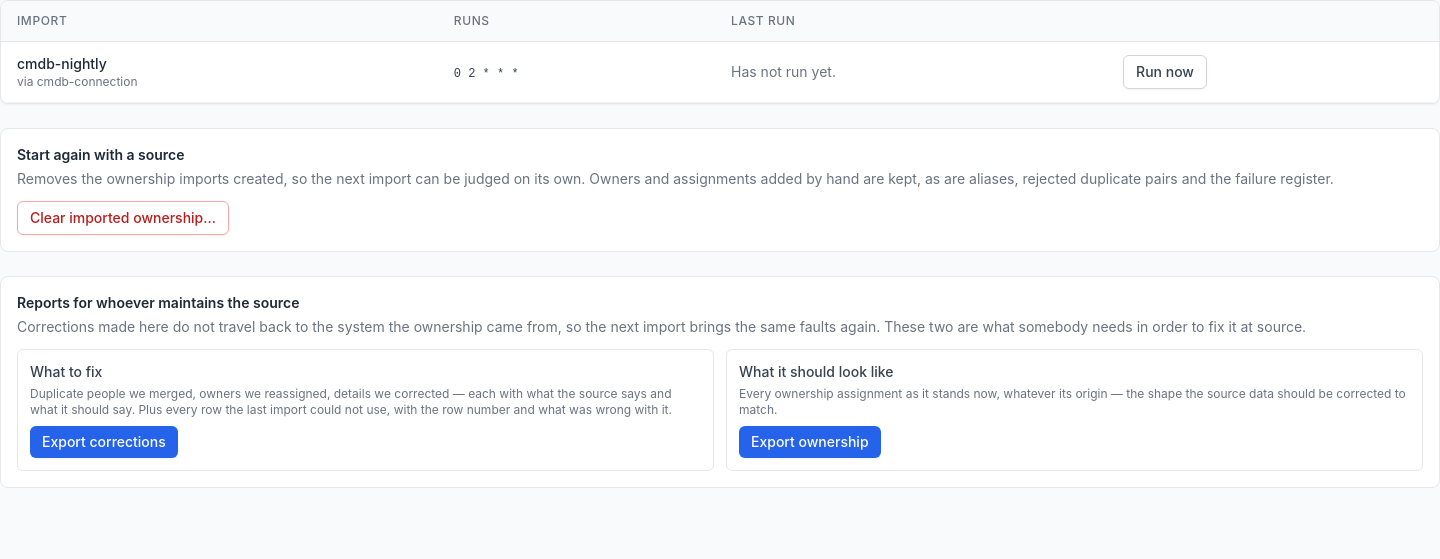
Test: clearing imported ownership › can be backed out of
The width and height of the screenshot is (1440, 559).
Click the button "Clear imported ownership…" at point(123, 218), box [17,201,229,235]
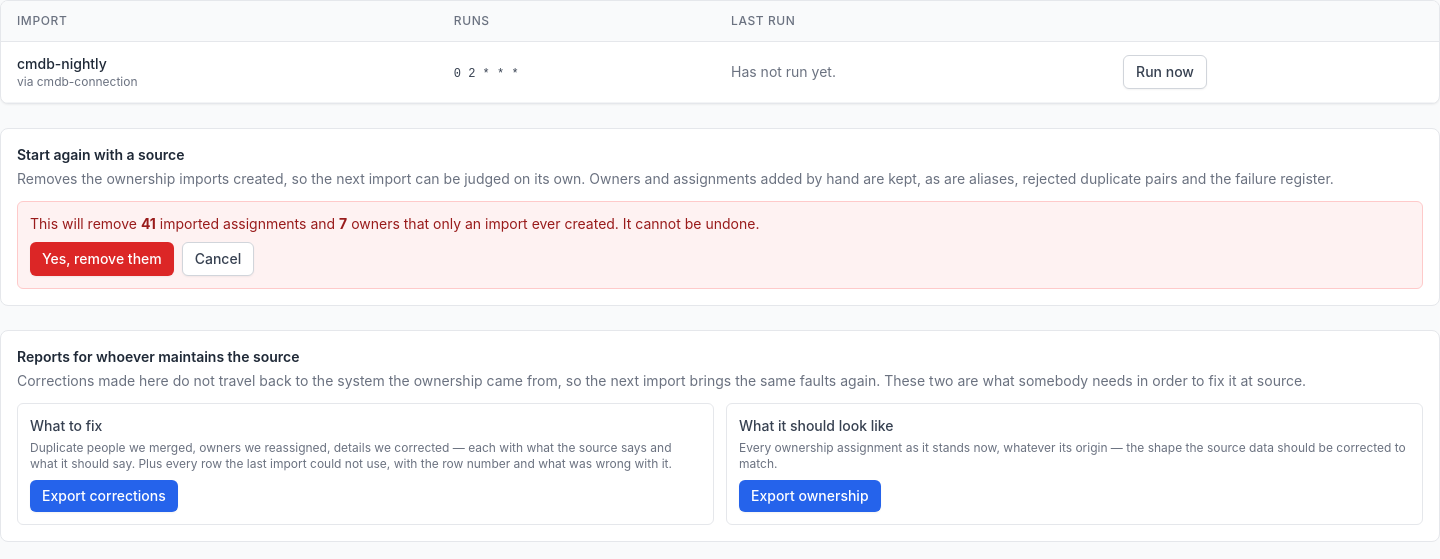
Click the button "Cancel" at point(218, 259), box [182,242,254,276]
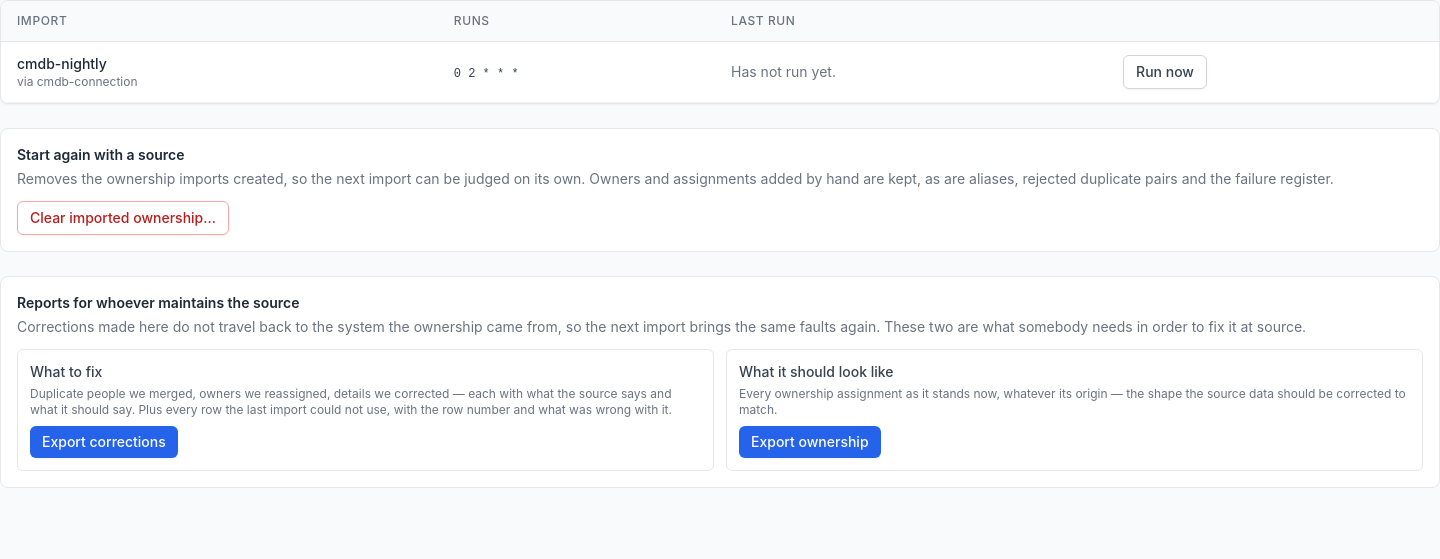
Result: the button "Yes, remove them" is gone
